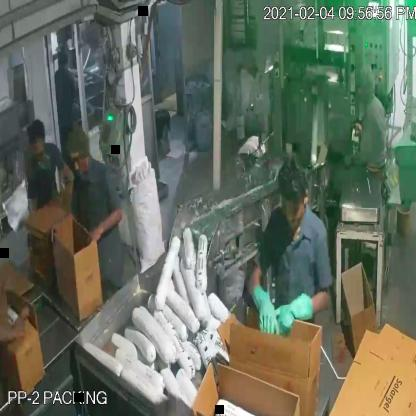glove: (270, 285, 333, 346), (240, 272, 282, 338)
no_glove: (87, 200, 130, 252), (0, 302, 39, 357), (42, 204, 88, 239)
